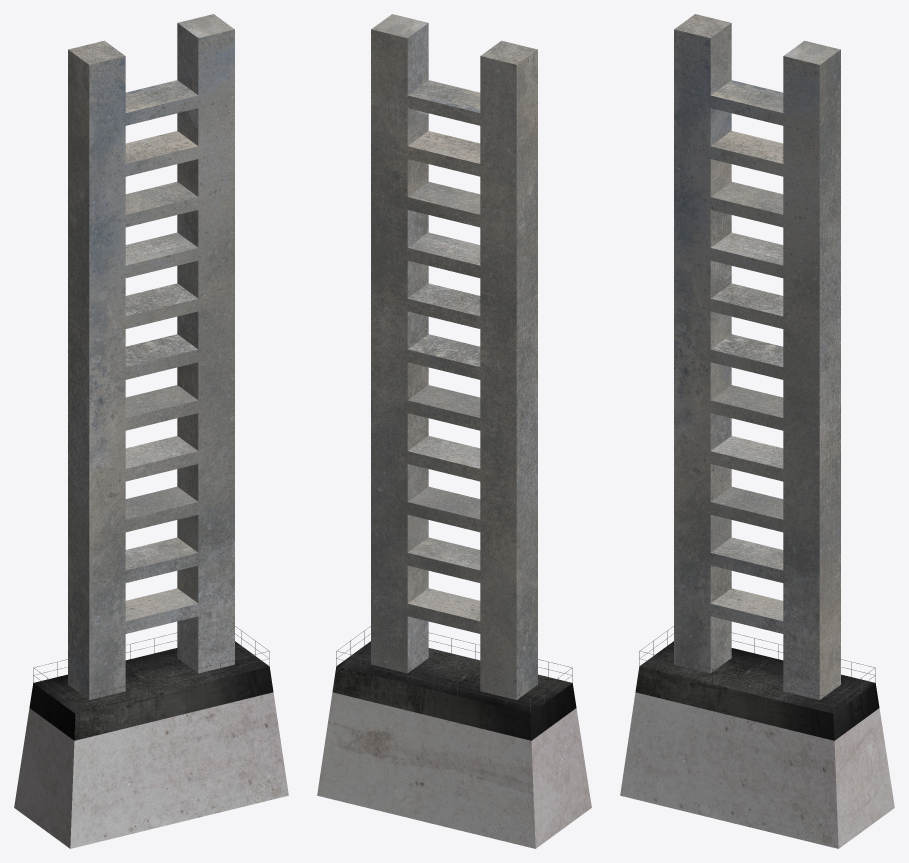
Rendered from cot.fbx.
The picture shows the model from 3 angles, left to right: view 1: azimuth 30°, elevation 25°; view 2: azimuth 150°, elevation 25°; view 3: azimuth 330°, elevation 25°; orthographic projection.
Parts seen in each view (by area): view 1: Object_4, Object_6, Object_5; view 2: Object_4, Object_6, Object_5; view 3: Object_4, Object_6, Object_5.
Boxes of the visible parts, x1=… form: Object_4: x1=68, y1=14, x2=234, y2=699; Object_6: x1=14, y1=692, x2=288, y2=848; Object_5: x1=29, y1=641, x2=273, y2=740; Object_4: x1=371, y1=14, x2=537, y2=699; Object_6: x1=317, y1=692, x2=591, y2=848; Object_5: x1=332, y1=641, x2=576, y2=740; Object_4: x1=674, y1=14, x2=840, y2=699; Object_6: x1=620, y1=692, x2=894, y2=848; Object_5: x1=635, y1=641, x2=879, y2=740.
Size of the model in its own units: 18 by 8.03 by 60.
Materials: 4 (4 with a texture image).
